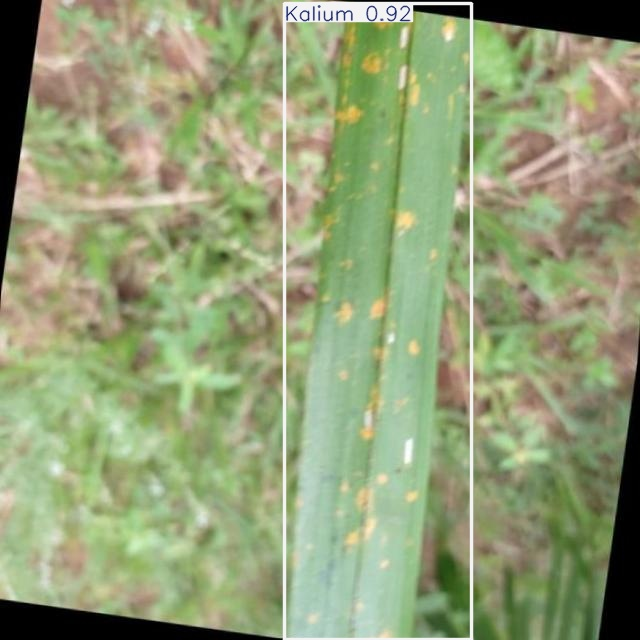Kalium: (284, 4, 472, 640)
